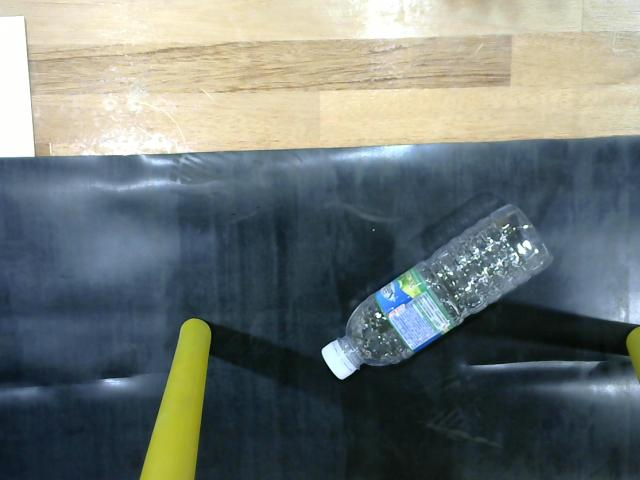bottle: (306, 186, 575, 394)
